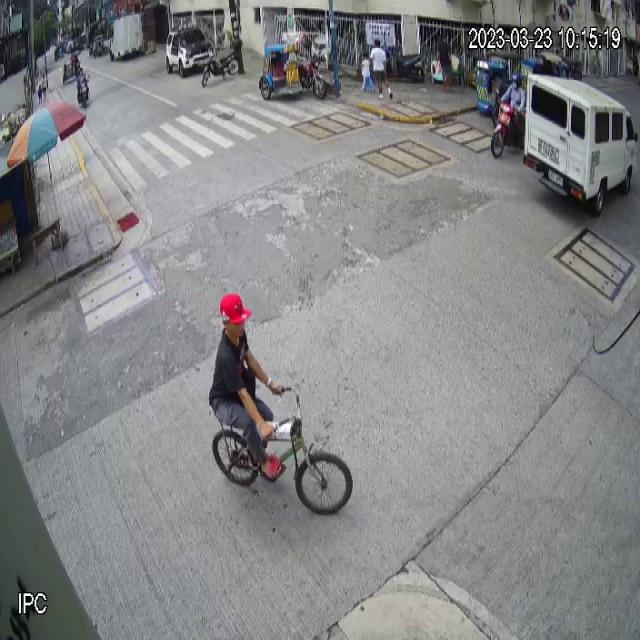Motorcycle: (490, 87, 526, 159)
Tricycle: (260, 30, 327, 100)
Van: (523, 72, 640, 218)
